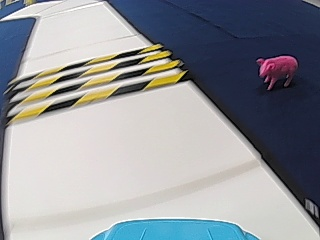bump: (11, 44, 163, 125)
